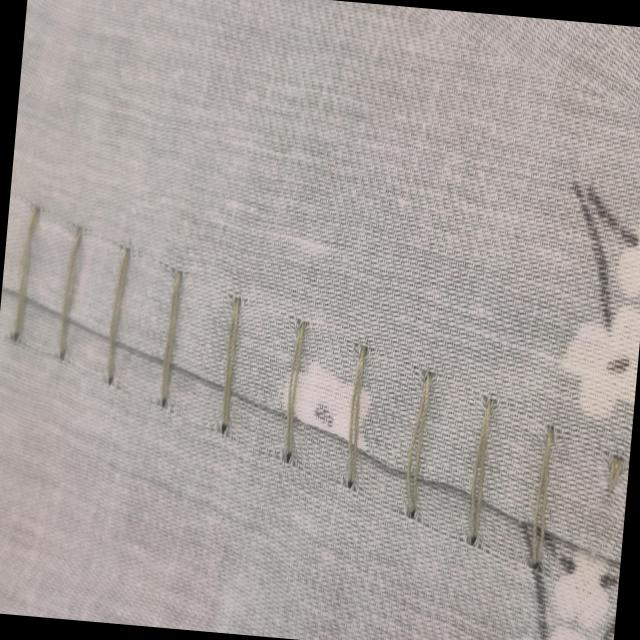gray stitch: (268, 314, 576, 572), (0, 201, 256, 442)
